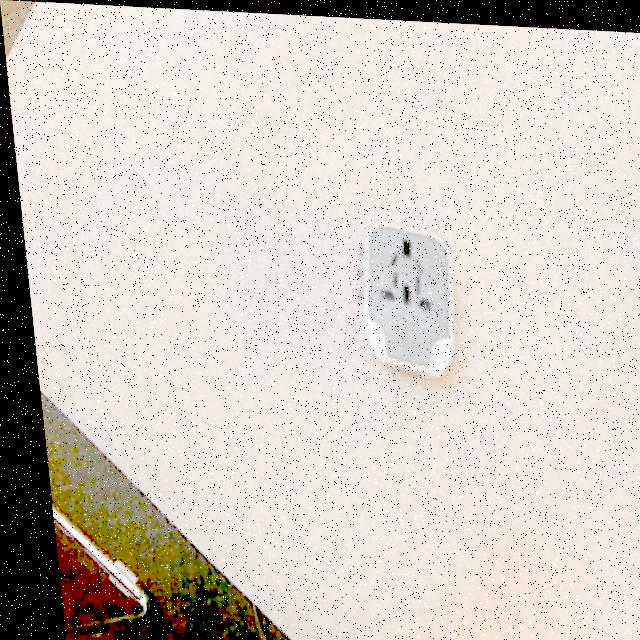adapter: (342, 213, 457, 375)
